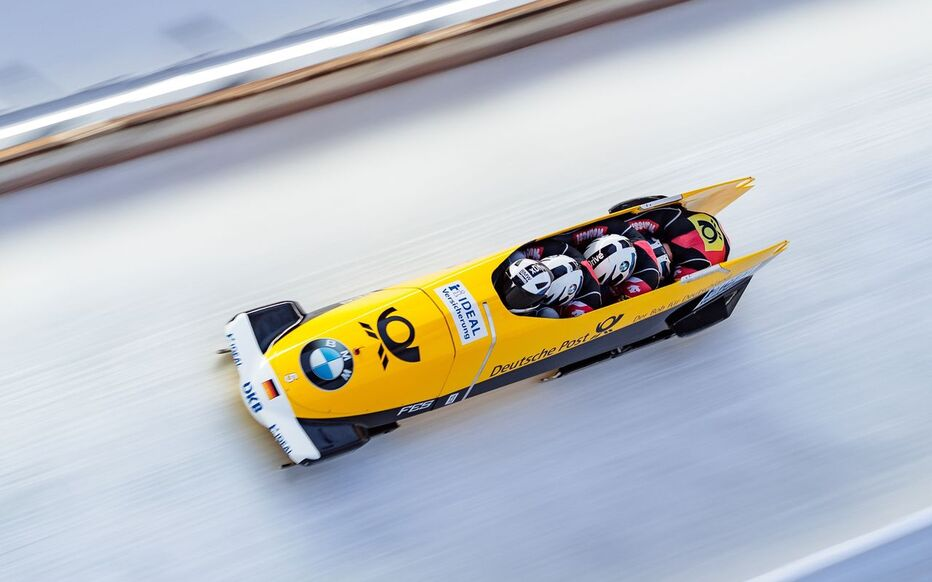Bobsleigh: (221, 175, 787, 465)
